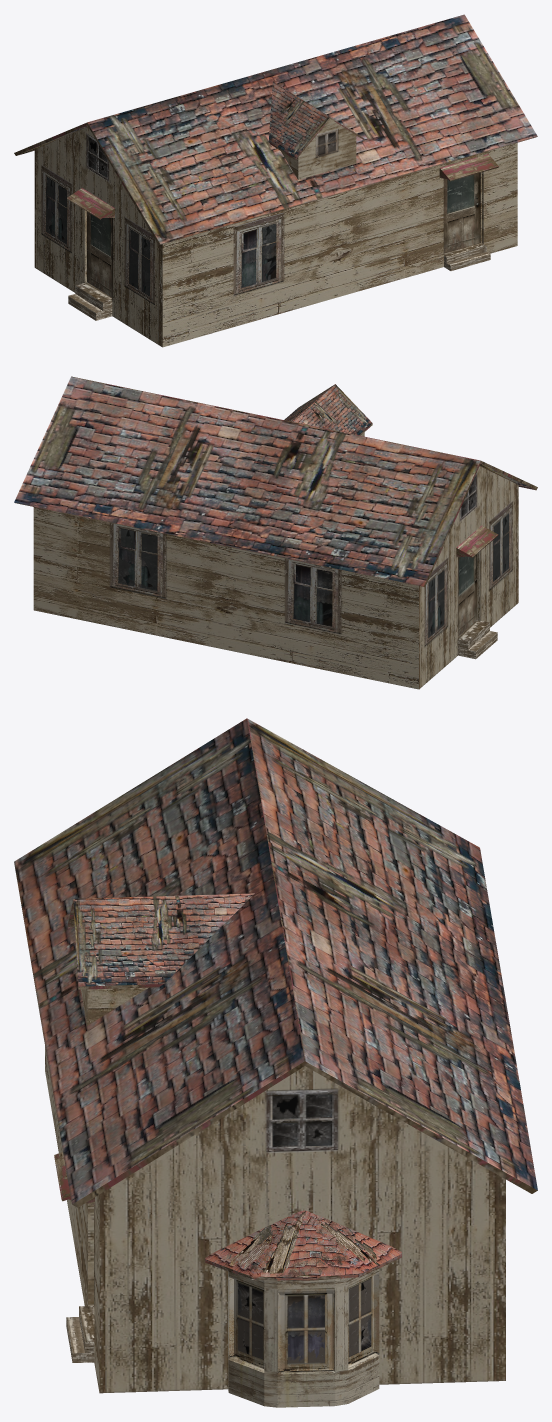
The model's file is cottage_fbx.fbx.
3 renders of one model, top to bottom at view 1: azimuth 30°, elevation 25°; view 2: azimuth 150°, elevation 25°; view 3: azimuth 270°, elevation 25°, orthographic. The views are drawn at different scales.
Visible parts, largest first — view 1: Cube; view 2: Cube; view 3: Cube.
Part boxes in pixels (box(x1,y1,x2,y2)): Cube: box(14, 14, 537, 347); Cube: box(14, 376, 537, 689); Cube: box(14, 718, 537, 1407).
Size of the model in its own units: 3393 by 1467 by 2074.
1 material, 1 textured.
